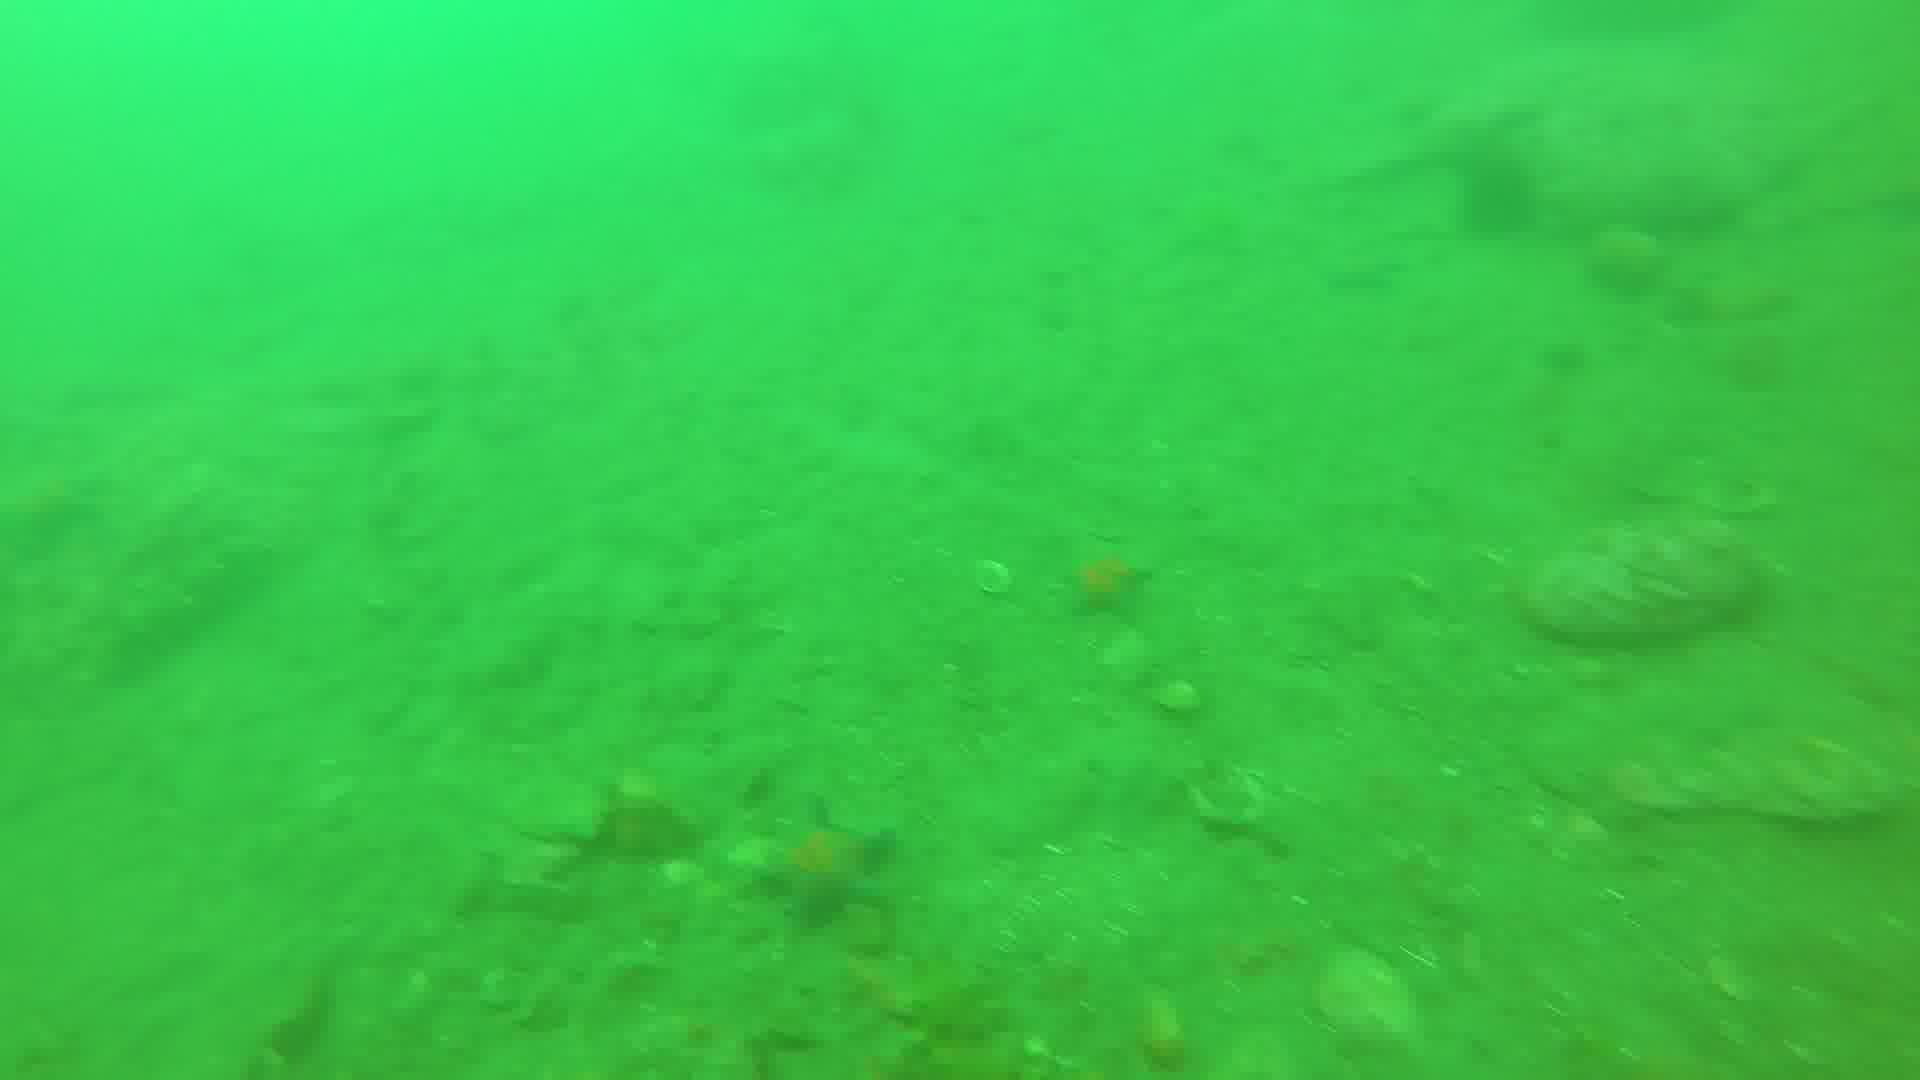starfish: (752, 804, 893, 931), (1064, 545, 1156, 630), (1323, 233, 1411, 301)
